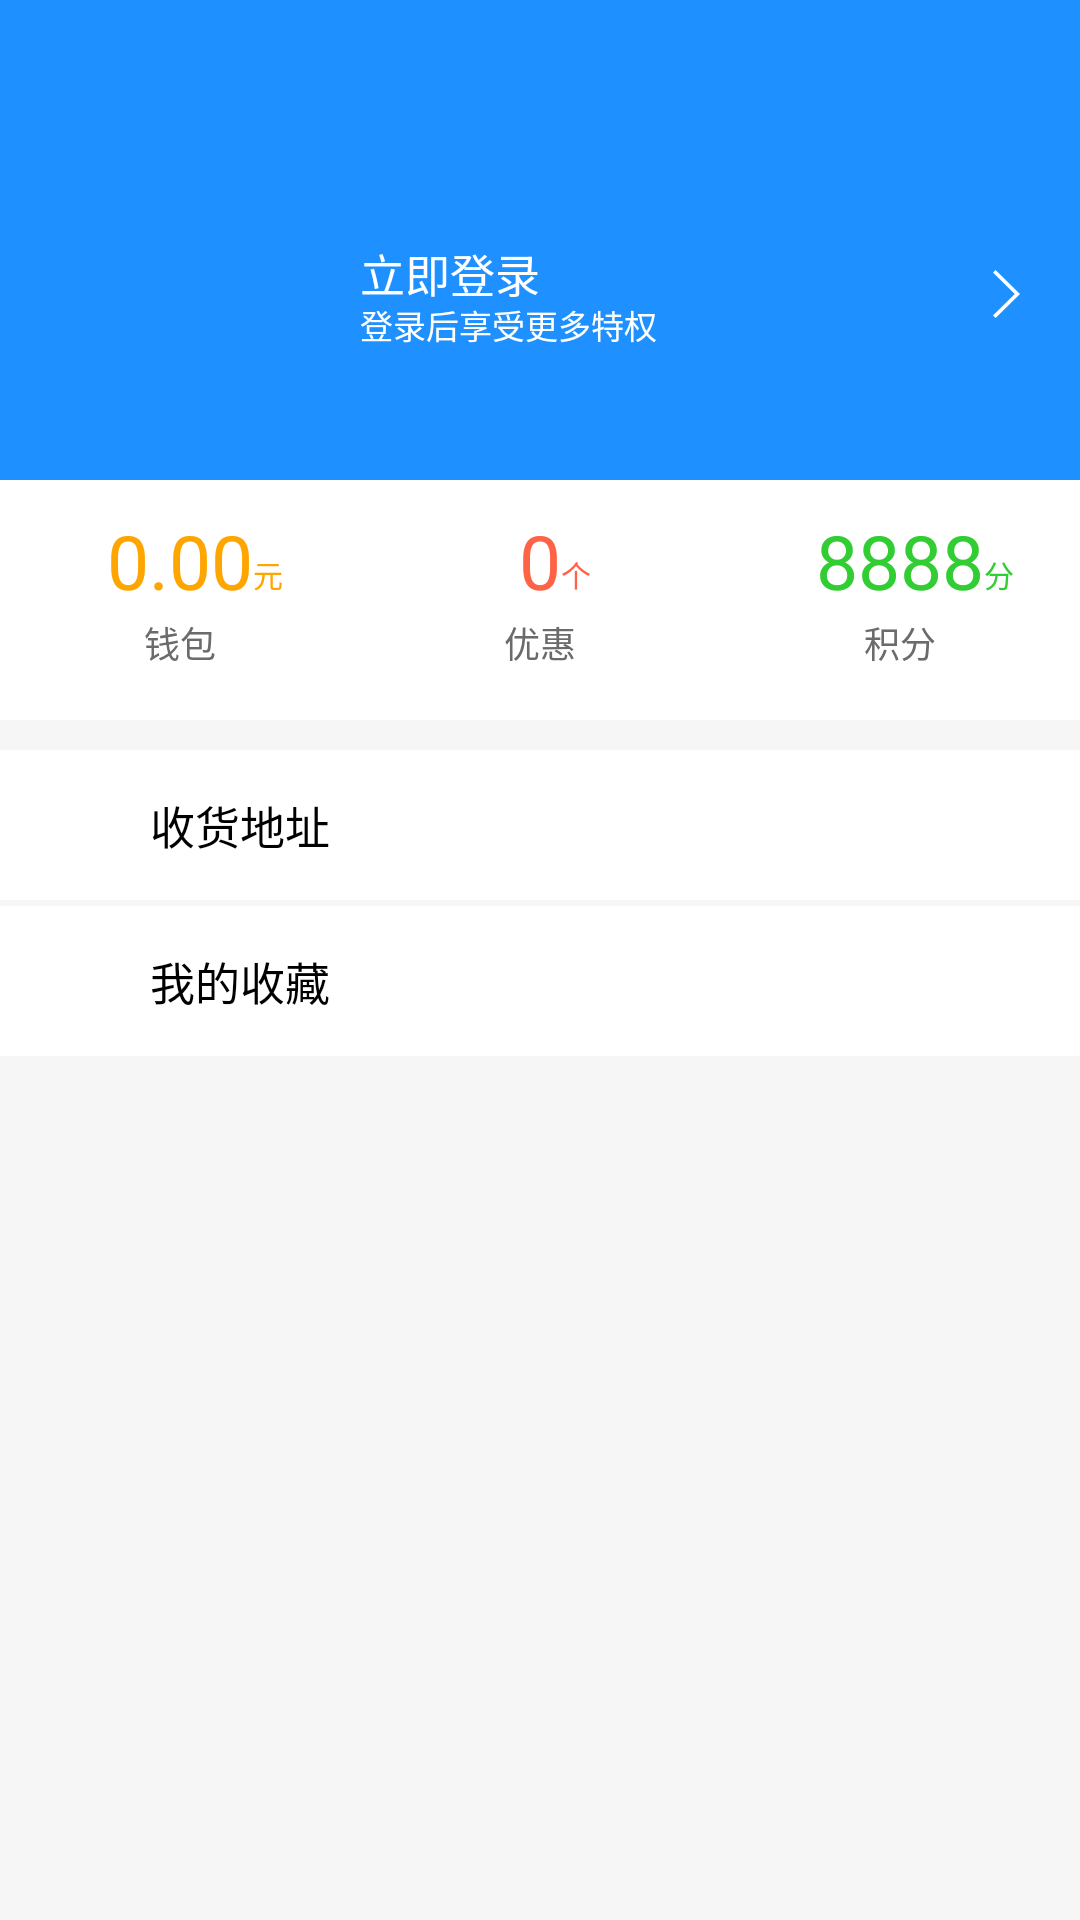

Point at icon controls on the screen. Image size 1080w x 1920h, points as (x,y).
right: (1006,294)
